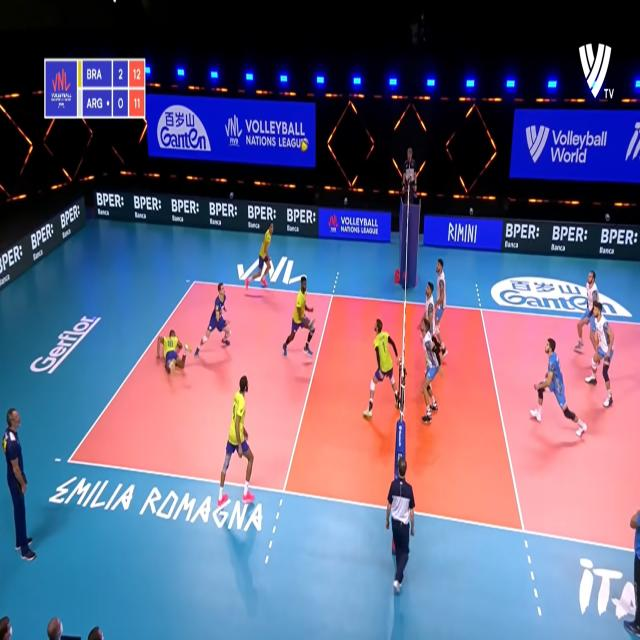player: (534, 335, 586, 438), (219, 377, 254, 505), (362, 318, 397, 420), (592, 300, 617, 413), (283, 273, 314, 356), (198, 282, 230, 357), (422, 278, 448, 364), (418, 316, 438, 424), (579, 270, 604, 353), (245, 224, 274, 289), (158, 325, 190, 375), (435, 258, 445, 326)
